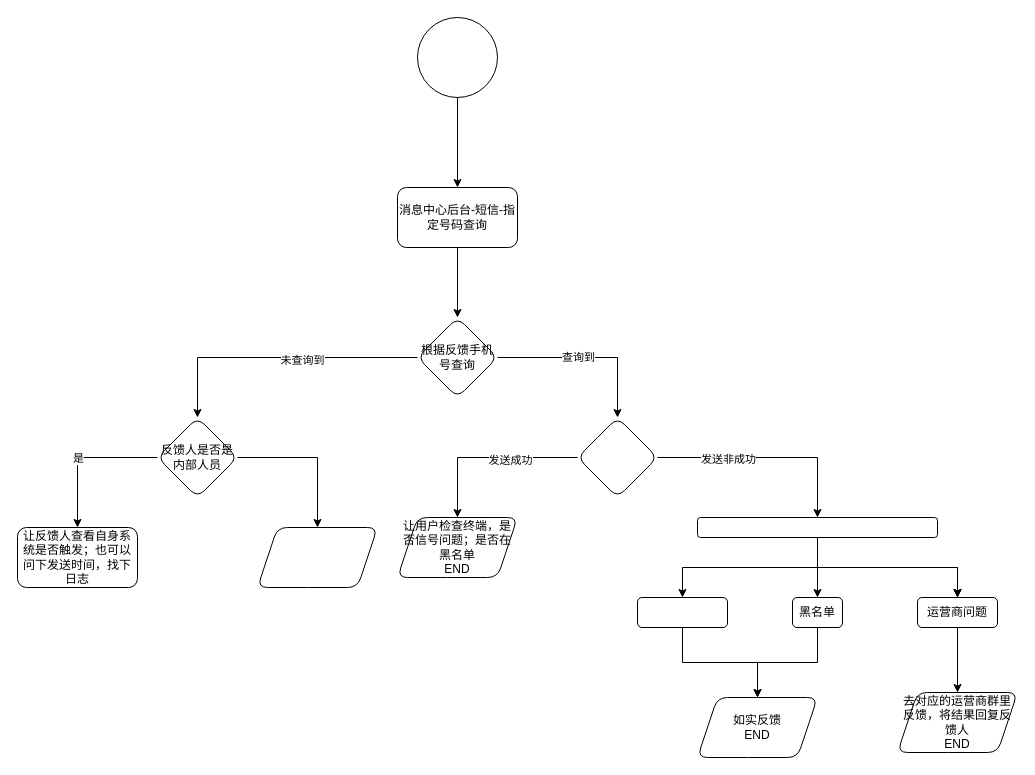
Some shapes in this 1035 by 775 pixel diagram are drawn without their labels. The centre of each missing label's shape, as x and y in pixels:
Start 反馈短信未收到: (457,57)
判断发送类型: (617,457)
开发介入 END: (317,557)
达到子系统上限: (682,612)
非成功类型: (817,527)
